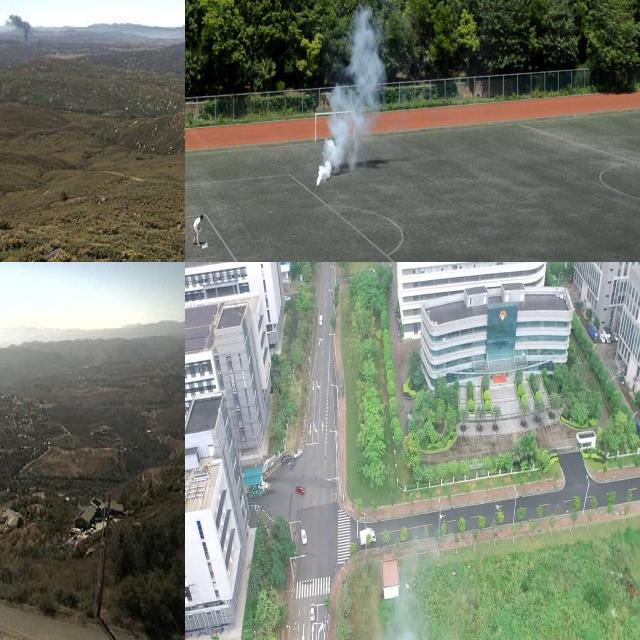smoke: (317, 6, 385, 182), (1, 4, 33, 48)
